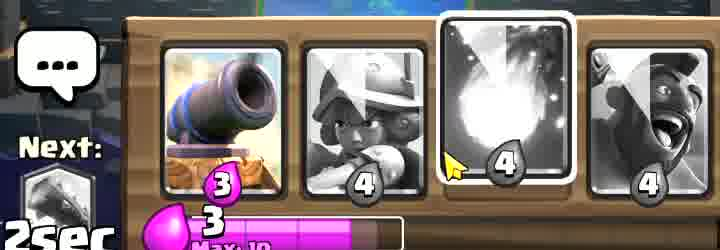cannon: (172, 50, 284, 195)
hog-rider: (585, 62, 679, 204)
